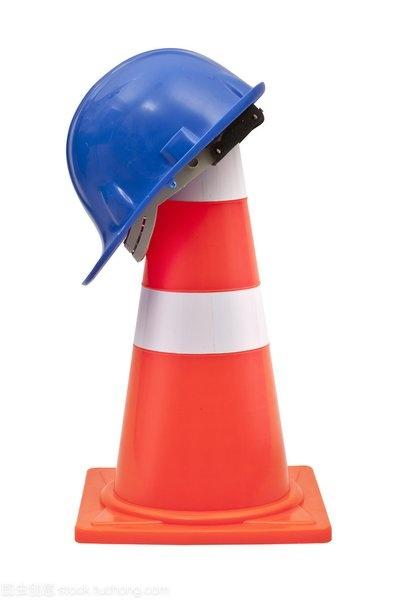cone_barrel: (91, 59, 302, 519)
